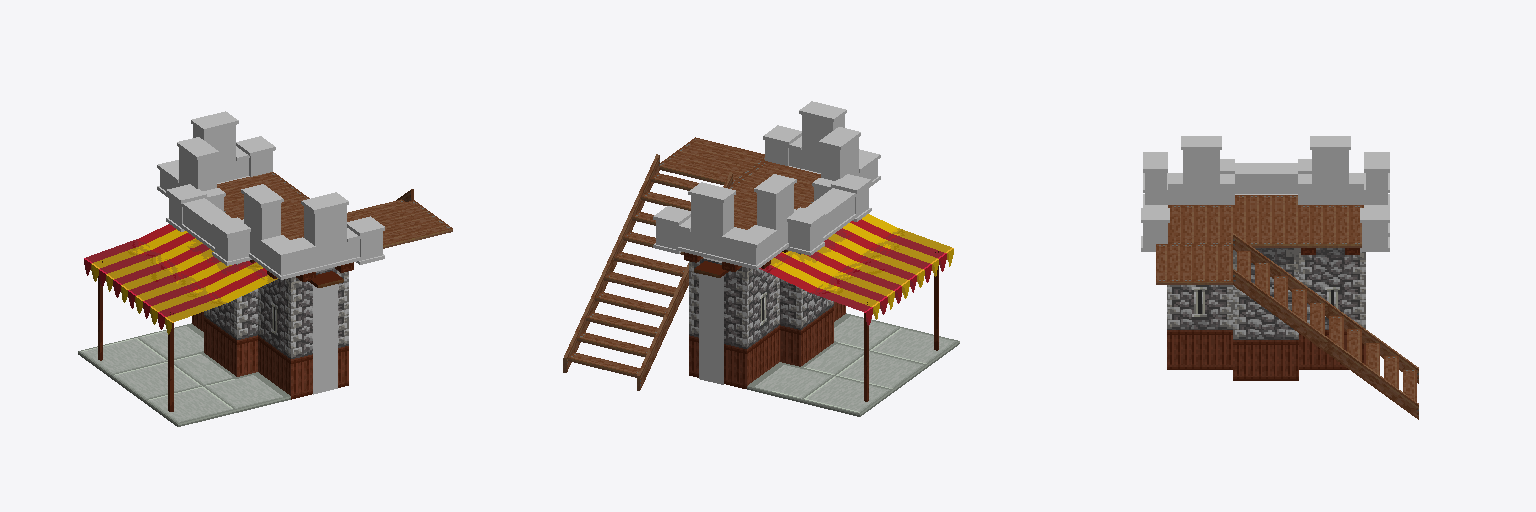
3 renders of one model, left to right at view 1: azimuth 30°, elevation 25°; view 2: azimuth 150°, elevation 25°; view 3: azimuth 270°, elevation 25°, orthographic.
Parts seen in each view (by area): view 1: cuboid, plane; view 2: cuboid, plane; view 3: cuboid.
Part boxes in pixels (left/top/right/bottom): cuboid: left=78, top=111, right=452, bottom=426; plane: left=84, top=224, right=337, bottom=394; cuboid: left=563, top=101, right=959, bottom=416; plane: left=699, top=214, right=953, bottom=384; cuboid: left=1141, top=136, right=1418, bottom=419.
Bounding box in the file's own units: 10.56 × 7.38 × 9.44.
5 materials, 3 textured.